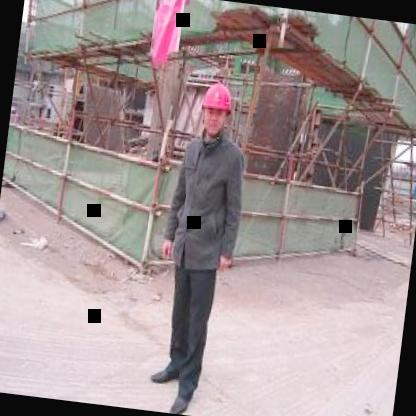helmet: (196, 76, 239, 137)
